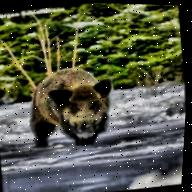boar: (22, 60, 122, 154)
